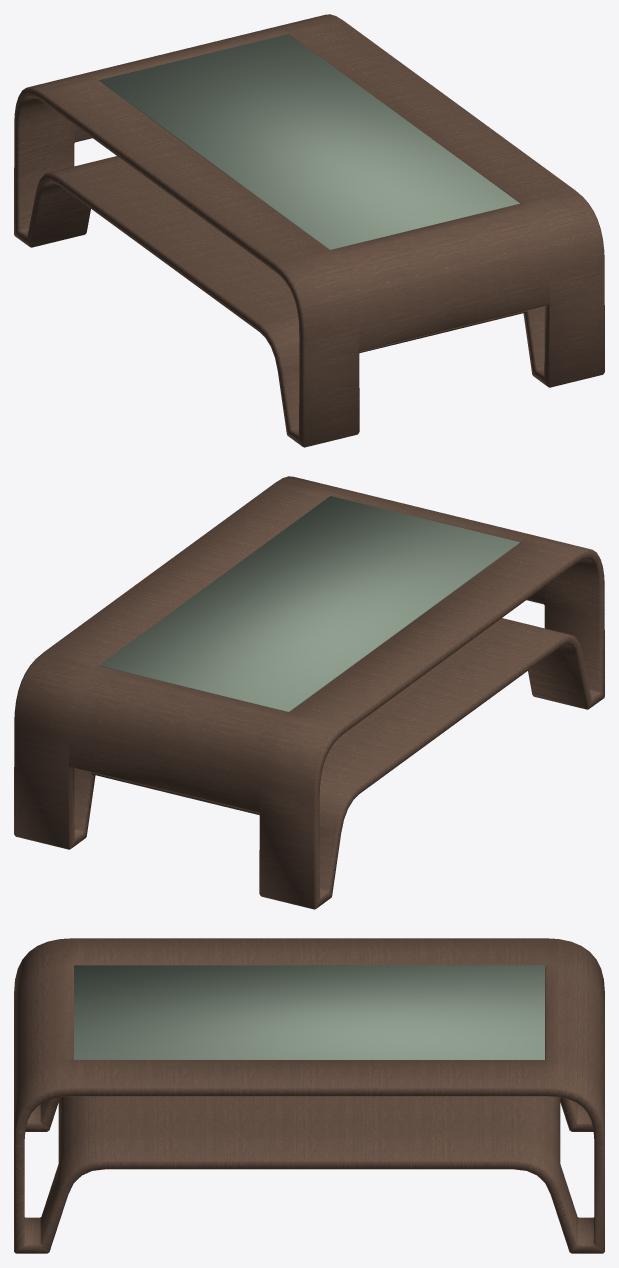
The model's file is apartment_03_table.glb.
3 views of the same model, one above another, from view 1: azimuth 30°, elevation 25°; view 2: azimuth 150°, elevation 25°; view 3: azimuth 270°, elevation 25° (orthographic).
Parts seen in each view (by area): view 1: SM_CentralTable_01; view 2: SM_CentralTable_01; view 3: SM_CentralTable_01.
Part boxes in pixels (box(x1,y1,x2,y2)): SM_CentralTable_01: box(14, 14, 604, 447); SM_CentralTable_01: box(14, 476, 604, 909); SM_CentralTable_01: box(14, 938, 604, 1253).
Size of the model in its own units: 0.7874 by 0.4087 by 1.31.
2 materials, 1 textured.
